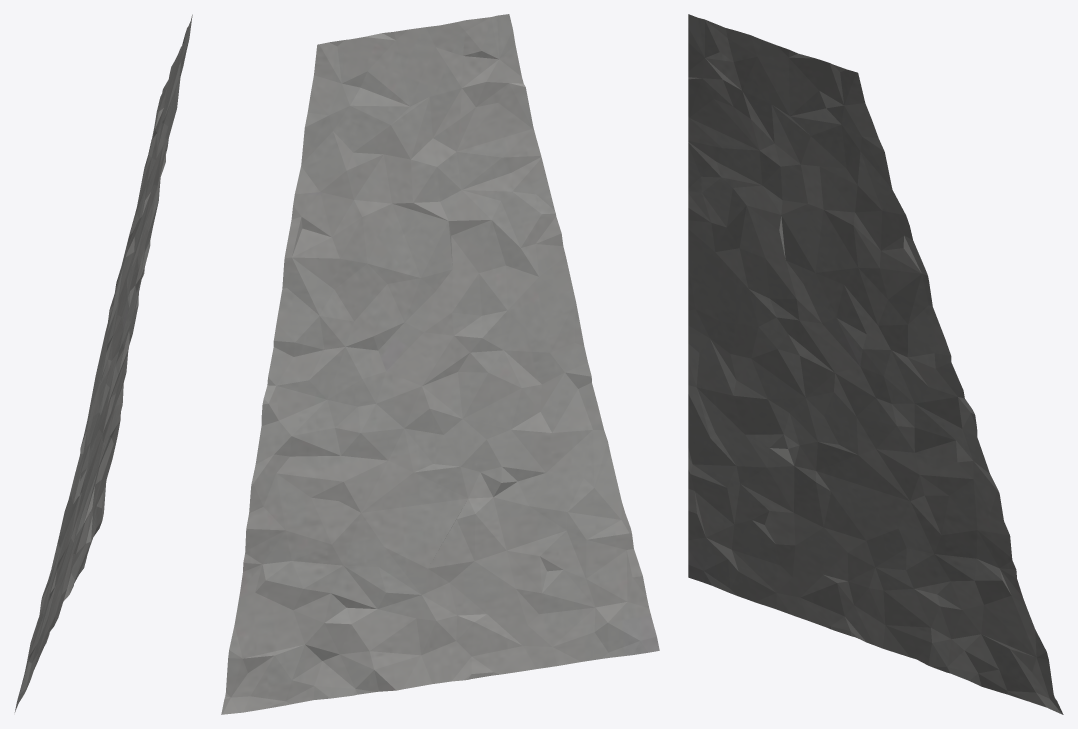
3 views of the same model, side by side, from view 1: azimuth 30°, elevation 25°; view 2: azimuth 150°, elevation 25°; view 3: azimuth 270°, elevation 25° (orthographic). The views are drawn at different scales.
Size of the model in its own units: 0.3842 by 0.8373 by 0.4436.
1 material, 1 textured.
